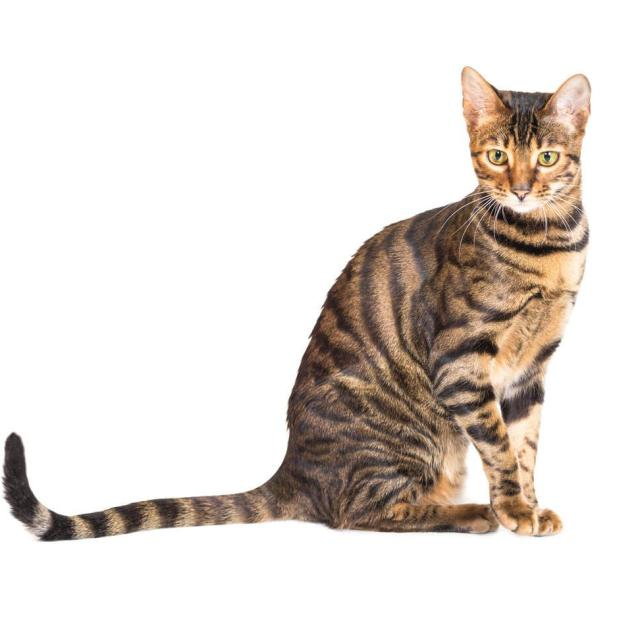Toyger: (0, 62, 595, 544)
